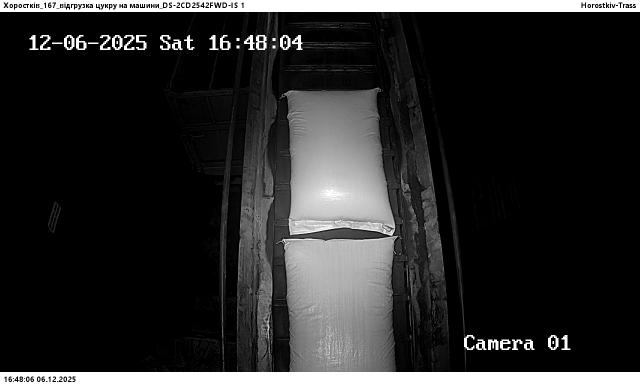bag: (288, 88, 396, 236), (284, 237, 397, 372)
